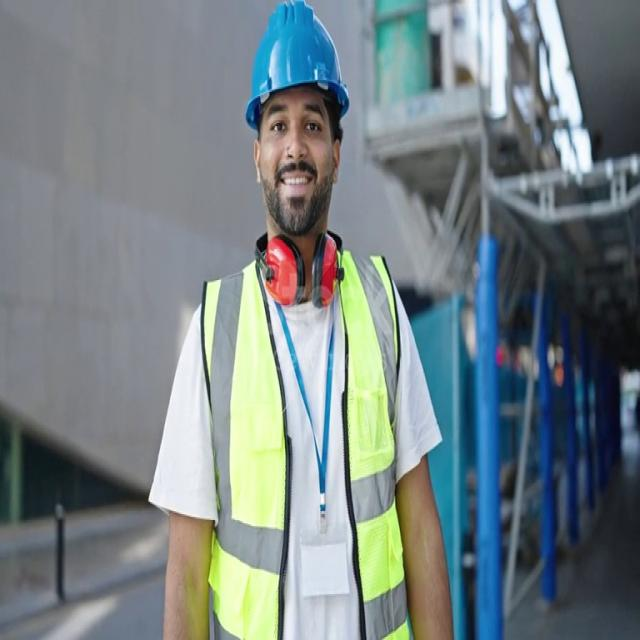capacete: (230, 0, 358, 143)
